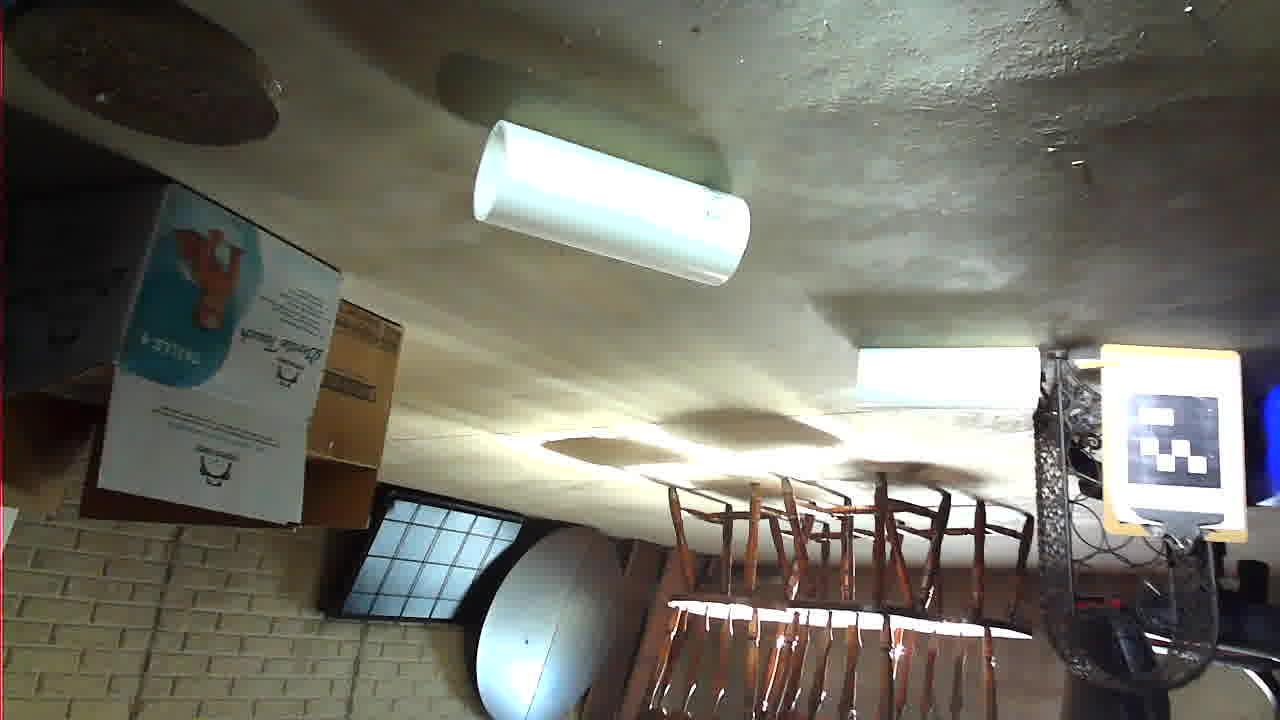coral: (524, 426, 811, 604)
